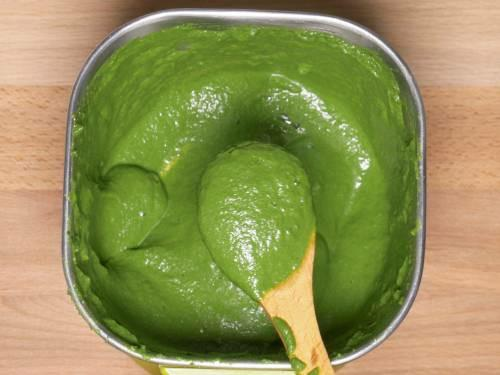GreenChutney: (69, 25, 417, 360)
